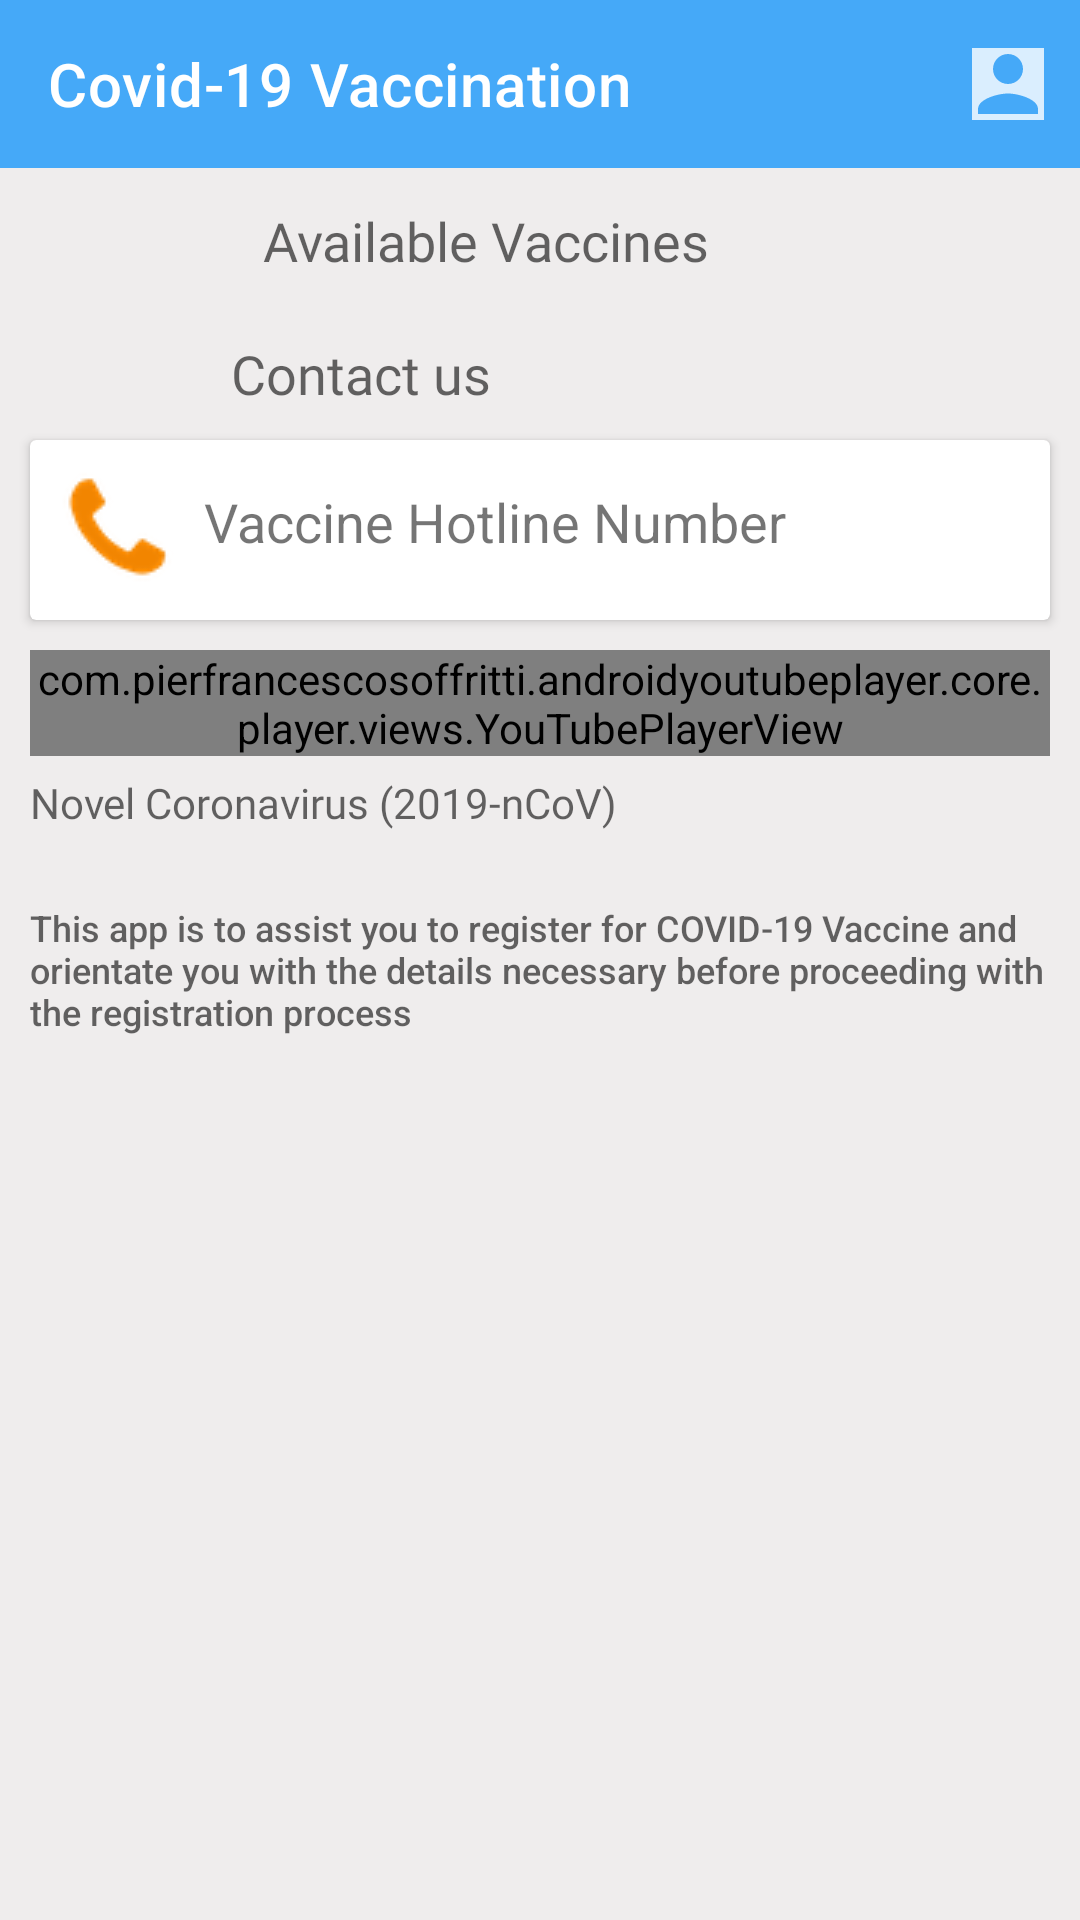

Named icons in this screenshot (1080×1920) and their centers, [x,y]:
call: [117,527]
